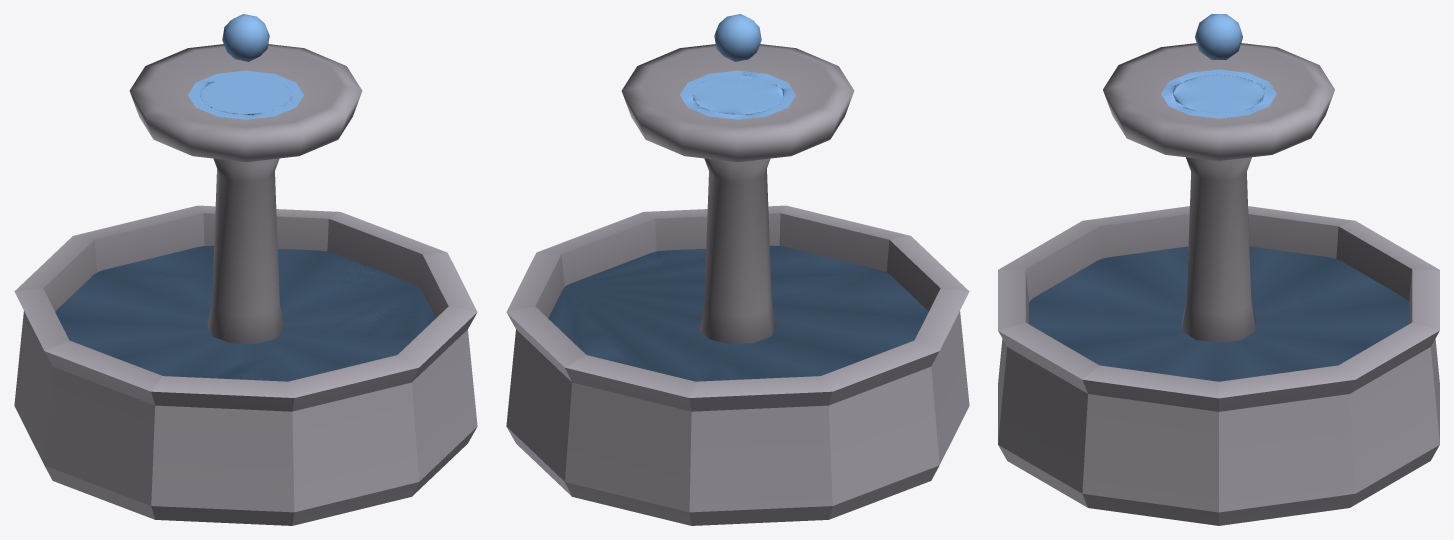
Rendered from fountain.fbx.
The picture shows the model from 3 angles, left to right: view 1: azimuth 30°, elevation 25°; view 2: azimuth 150°, elevation 25°; view 3: azimuth 270°, elevation 25°; orthographic projection.
Visible parts, largest first — view 1: Basin, Water, Bowl, Column, BowlWater, Crystal; view 2: Basin, Water, Bowl, Column, BowlWater, Crystal; view 3: Basin, Water, Bowl, Column, BowlWater, Crystal.
Part boxes in pixels (x1,y1,x2,y2): Basin: (14, 205, 477, 525); Water: (55, 245, 435, 381); Bowl: (129, 44, 362, 162); Column: (207, 158, 284, 344); BowlWater: (188, 70, 303, 119); Crystal: (222, 14, 269, 61); Basin: (506, 205, 969, 525); Water: (548, 245, 928, 381); Bowl: (621, 44, 854, 162); Column: (699, 158, 776, 344); BowlWater: (680, 70, 795, 119); Crystal: (714, 14, 761, 61); Basin: (998, 206, 1439, 525); Water: (1029, 246, 1408, 381); Bowl: (1103, 43, 1334, 160); Column: (1182, 157, 1255, 342); BowlWater: (1161, 69, 1276, 118); Crystal: (1195, 14, 1242, 59).
Bounding box in the file's own units: 0.96 × 0.95 × 0.913.
